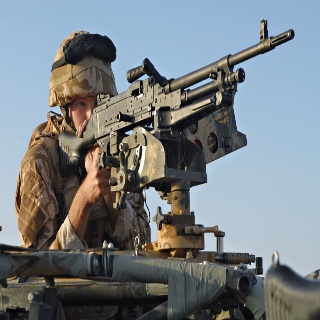rifle: (56, 17, 297, 179)
